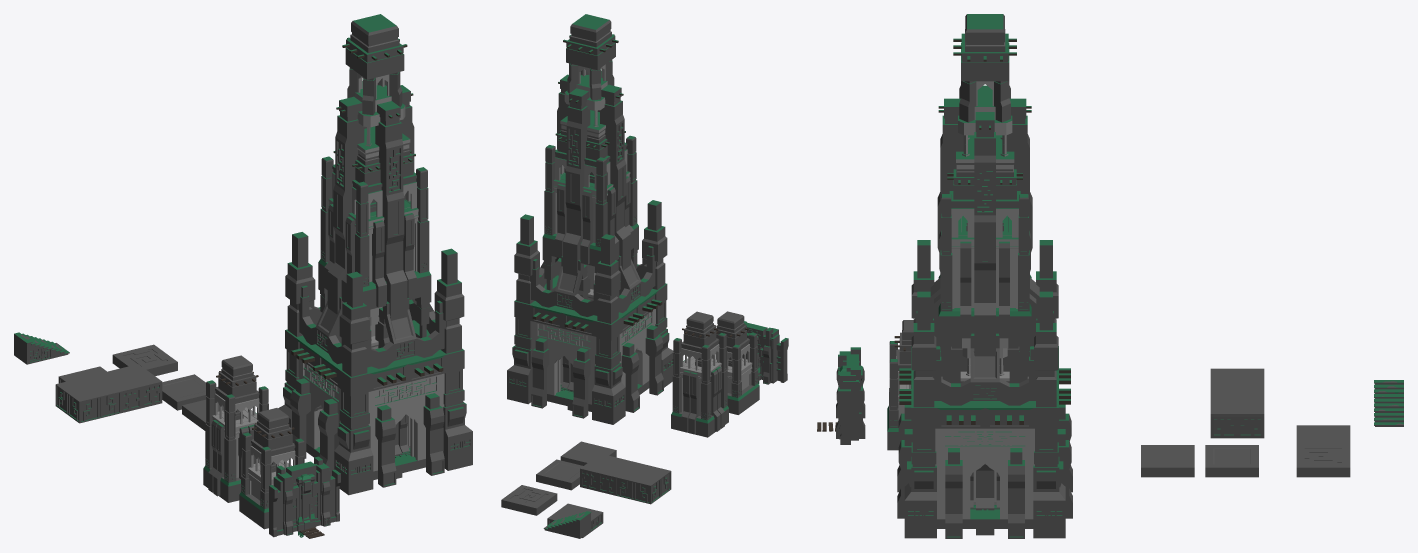
File: Temple.fbx
3 views of the same model, side by side, from view 1: azimuth 30°, elevation 25°; view 2: azimuth 150°, elevation 25°; view 3: azimuth 270°, elevation 25° (orthographic). The views are drawn at different scales.
Parts seen in each view (by area): view 1: Watchtower 4, Watchtower 2, Watchtower 1, Raised Floor 1, Doorway 2, Raised Floor 2, Large Wall, Floor 3, Floor 2, Watchtower 3, Stairs Edge, Stairs 1 (+1 smaller); view 2: Watchtower 4, Watchtower 2, Watchtower 1, Raised Floor 1, Raised Floor 2, Floor 3, Doorway 2, Floor 2, Watchtower 3, Stairs 1, Floor 1, Floor Extension (+1 smaller); view 3: Watchtower 4, Watchtower 3, Raised Floor 2, Watchtower 1, Doorway 2, Floor 3, Floor 1, Floor 2, Raised Floor 1, Stairs 1, Floor Extension.
Boxes of the visible parts, x1,y1,x2,y2 form: Watchtower 4: (278, 14, 472, 495); Watchtower 2: (203, 355, 268, 502); Watchtower 1: (239, 408, 304, 529); Raised Floor 1: (55, 374, 120, 423); Doorway 2: (273, 456, 330, 535); Raised Floor 2: (97, 364, 162, 413); Large Wall: (269, 469, 340, 537); Floor 3: (112, 344, 177, 376); Floor 2: (162, 374, 206, 410); Watchtower 3: (368, 307, 410, 478); Stairs Edge: (26, 341, 69, 364); Stairs 1: (14, 332, 68, 363); Watchtower 4: (507, 14, 673, 424); Watchtower 2: (671, 311, 728, 437); Watchtower 1: (711, 311, 759, 414); Raised Floor 1: (615, 462, 671, 504); Raised Floor 2: (580, 453, 635, 495); Floor 3: (501, 485, 557, 515); Doorway 2: (742, 321, 779, 384); Floor 2: (536, 459, 582, 490); Watchtower 3: (560, 265, 596, 410); Stairs 1: (543, 512, 590, 538); Floor 1: (560, 441, 616, 465); Floor Extension: (547, 503, 603, 537); Watchtower 4: (897, 14, 1072, 538); Watchtower 3: (948, 338, 1021, 535); Raised Floor 2: (1210, 391, 1264, 438); Watchtower 1: (887, 320, 913, 450); Doorway 2: (836, 347, 865, 440); Floor 3: (1296, 445, 1350, 477); Floor 1: (1141, 445, 1194, 477); Floor 2: (1205, 445, 1258, 477); Raised Floor 1: (1210, 368, 1264, 391); Stairs 1: (1377, 380, 1403, 426); Floor Extension: (1296, 425, 1350, 444).
Size of the model in its own units: 6334 by 10322 by 10931.
